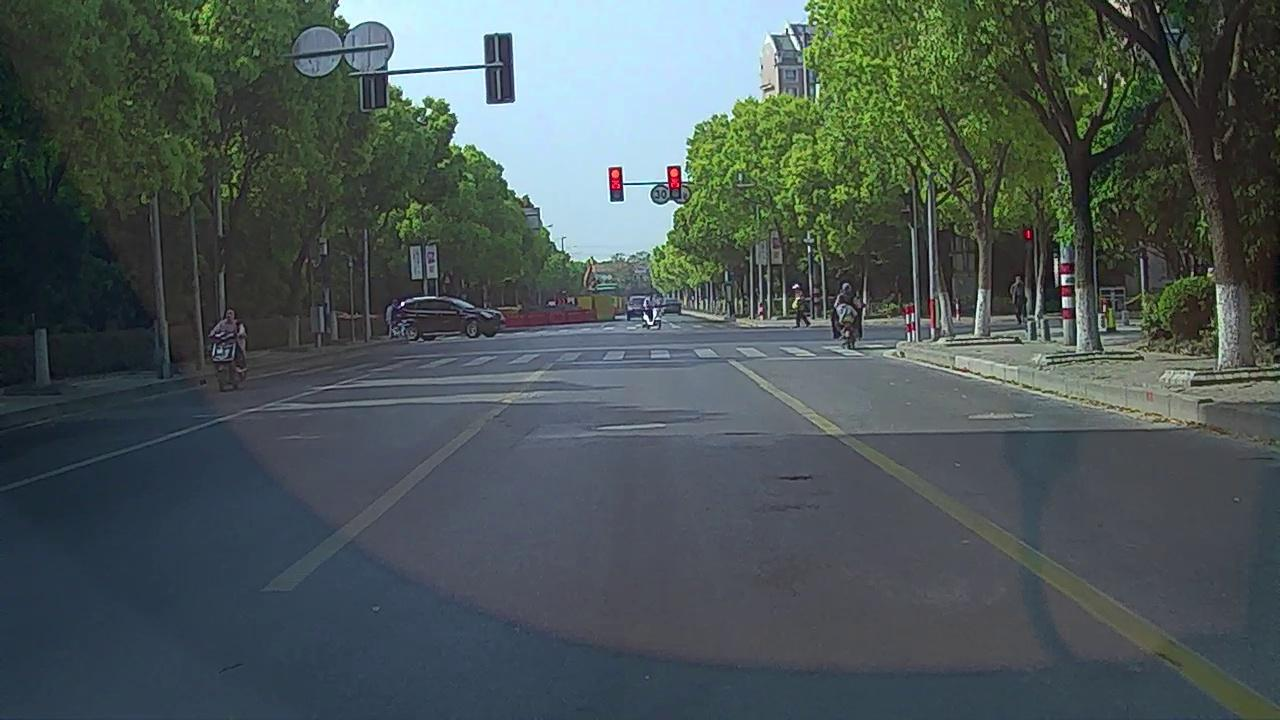traffic_light: (668, 165, 682, 200), (610, 169, 624, 203)
